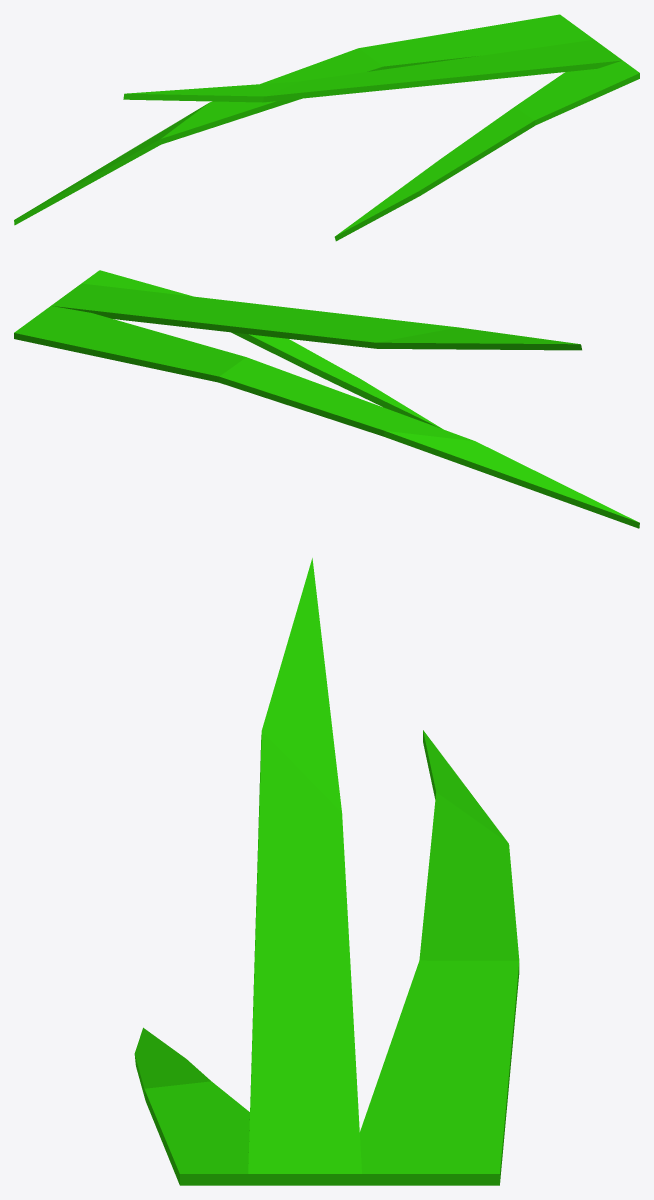
Rendered from grassobj2.fbx.
3 views of the same model, one above another, from view 1: azimuth 30°, elevation 25°; view 2: azimuth 150°, elevation 25°; view 3: azimuth 270°, elevation 25° (orthographic). The views are drawn at different scales.
Parts seen in each view (by area): view 1: grass1; view 2: grass1; view 3: grass1.
Boxes of the visible parts, <box> form: grass1: <box>14,14,639,241</box>; grass1: <box>14,270,639,528</box>; grass1: <box>134,558,519,1185</box>.
Size of the model in its own units: 0.5637 by 0.1511 by 0.1662.
